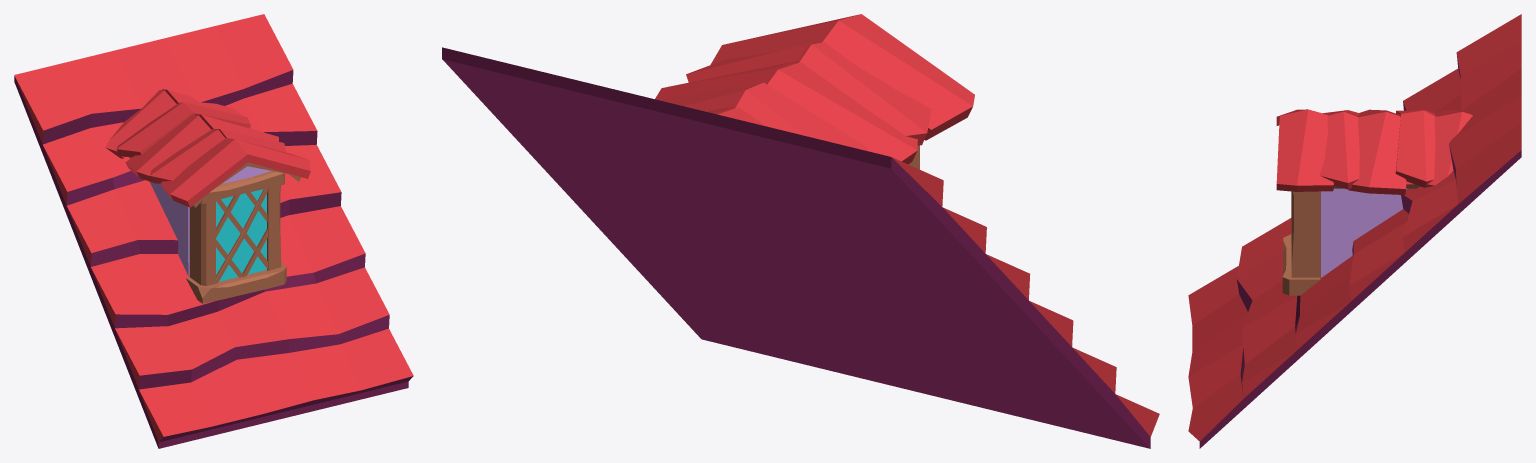
File: Roof 01 Window 01.fbx
The picture shows the model from 3 angles, left to right: view 1: azimuth 30°, elevation 25°; view 2: azimuth 150°, elevation 25°; view 3: azimuth 270°, elevation 25°; orthographic projection. The views are drawn at different scales.
Visible parts, largest first — view 1: Roof 01 Window 01; view 2: Roof 01 Window 01; view 3: Roof 01 Window 01.
Part boxes in pixels (<box>): Roof 01 Window 01: <box>14,14,413,448</box>; Roof 01 Window 01: <box>442,14,1159,448</box>; Roof 01 Window 01: <box>1188,14,1521,448</box>.
Size of the model in its own units: 400 by 410 by 414.
